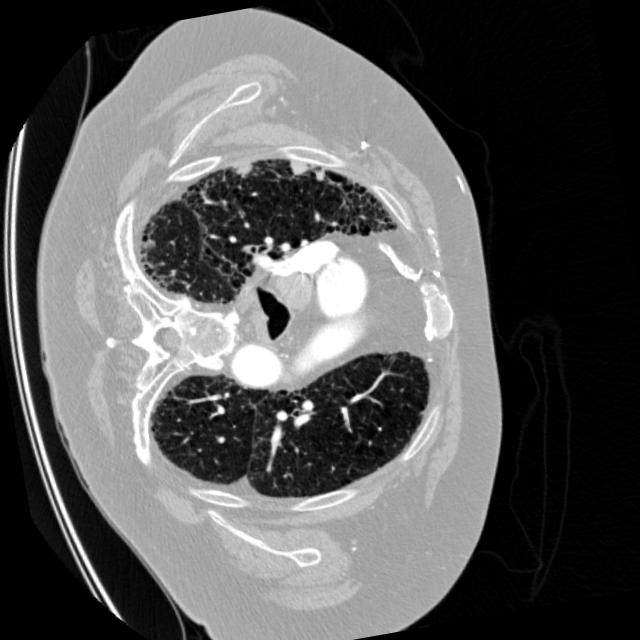nodule: (277, 143, 318, 184)
